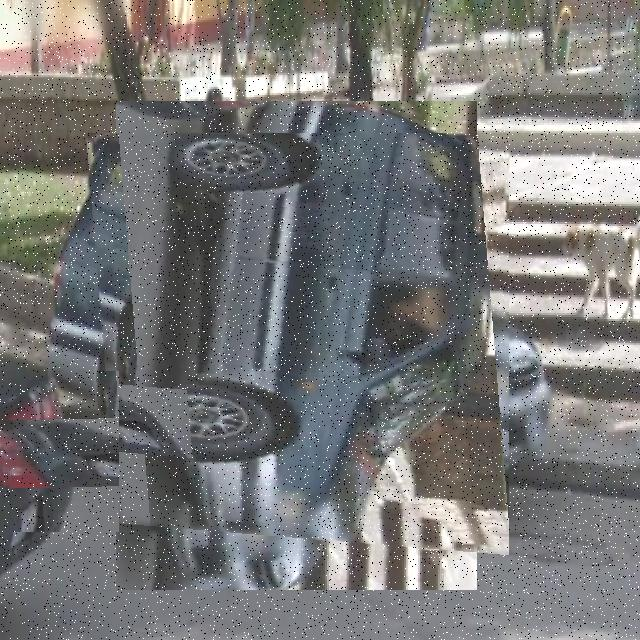car: (84, 134, 510, 559), (1, 372, 120, 533)
